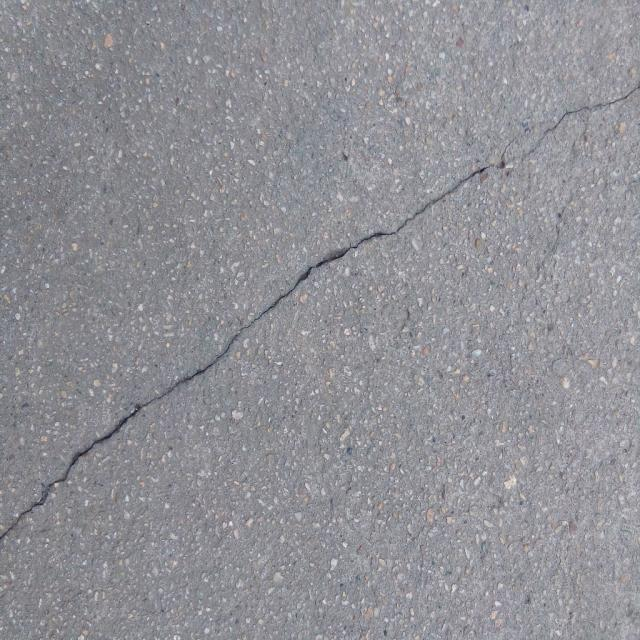cracks: (0, 74, 640, 605)
